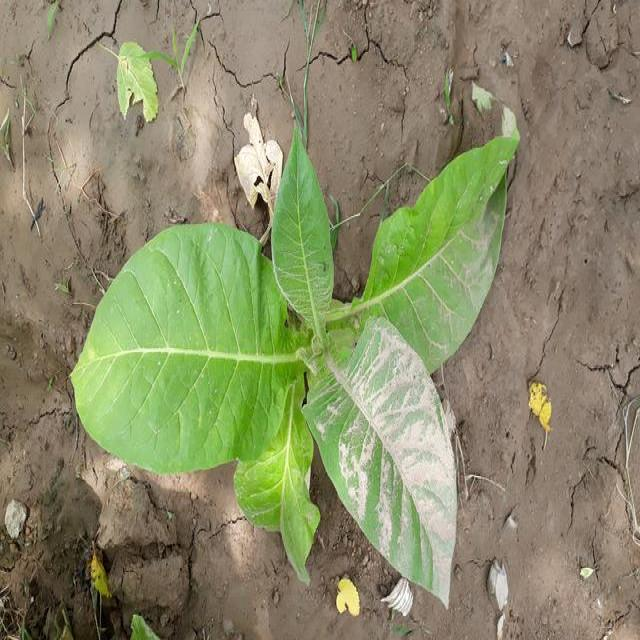crop: (85, 116, 518, 610)
